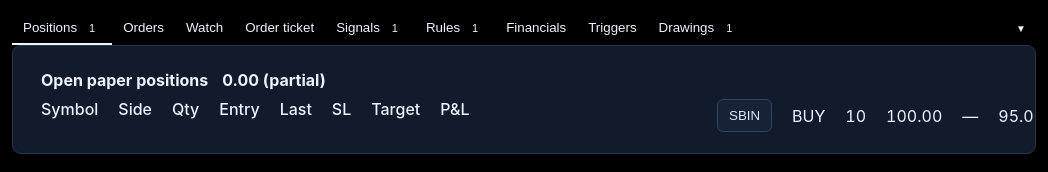
Dock tabs › shows a count on each tab and switches panels
This screenshot has width=1048, height=172.
Expected: the tab "Positions1" is shown, 12,12 -> 112,45
Expected: the tab "Signals1" is shown, 325,12 -> 415,45
Step 1. Click the tab "Financials" → (536, 28), box 495,12 -> 577,45
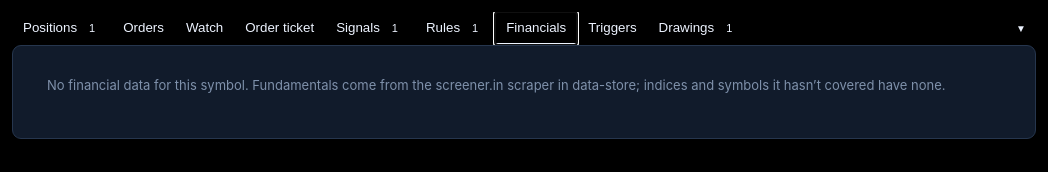
Result: the element named "Financials" is shown at 12,45 -> 1036,139
